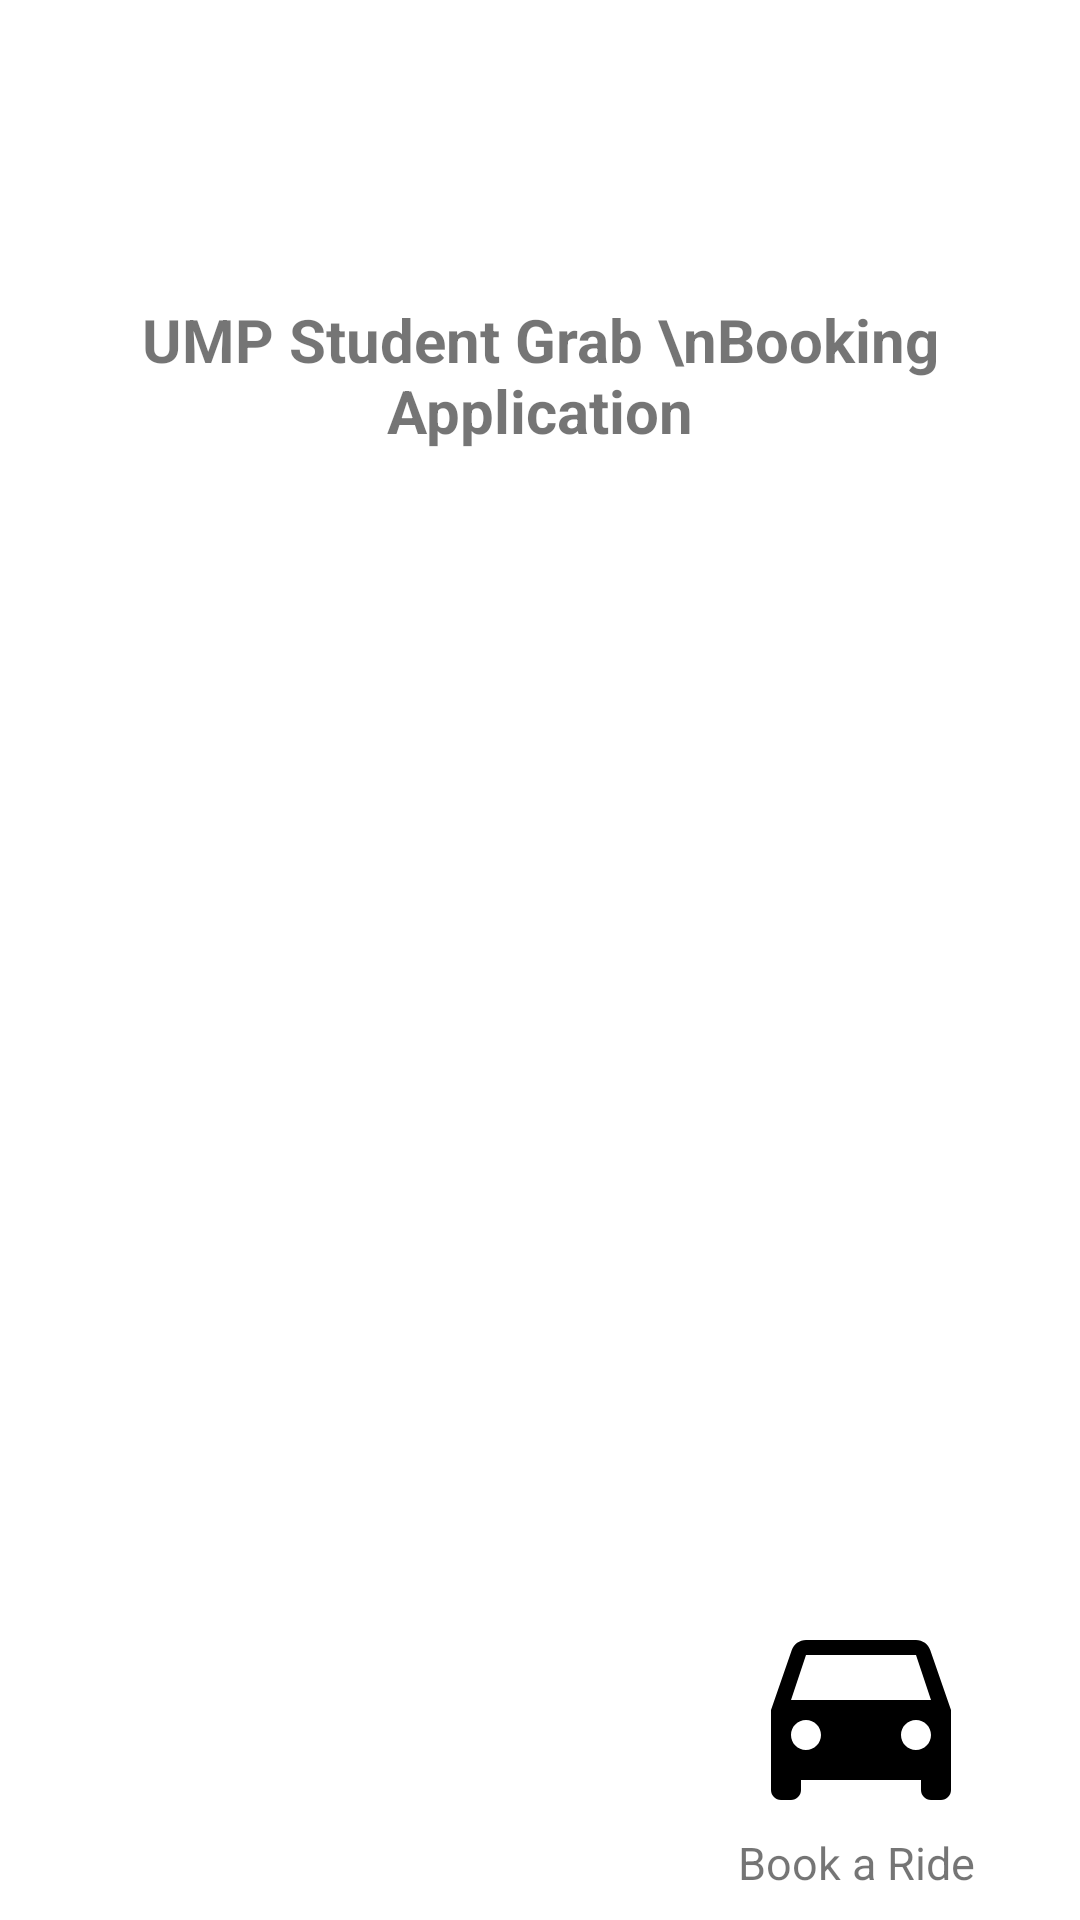

Icon click points for this 1080x1920 phone screenshot, format (x=x, y=y):
directions car: (x=861, y=1720)
